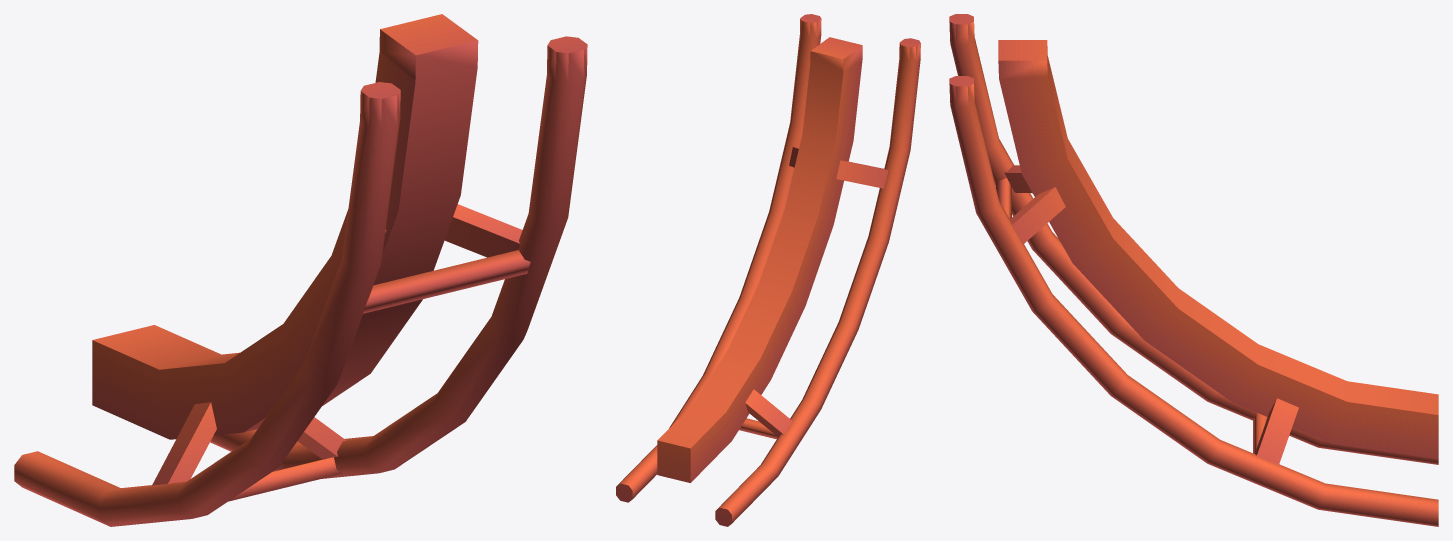
The model's file is coaster-hanging-straight-bend.glb.
3 views of the same model, side by side, from view 1: azimuth 30°, elevation 25°; view 2: azimuth 150°, elevation 25°; view 3: azimuth 270°, elevation 25° (orthographic). The views are drawn at different scales.
Visible parts, largest first — view 1: coaster-hanging-straight-bend; view 2: coaster-hanging-straight-bend; view 3: coaster-hanging-straight-bend.
Boxes of the visible parts, box(x1,y1,x2,y2) form: coaster-hanging-straight-bend: box(14, 14, 587, 526); coaster-hanging-straight-bend: box(616, 14, 920, 526); coaster-hanging-straight-bend: box(949, 14, 1438, 526).
Bounding box in the file's own units: 2.1 × 6 × 6.
1 material, 1 textured.
